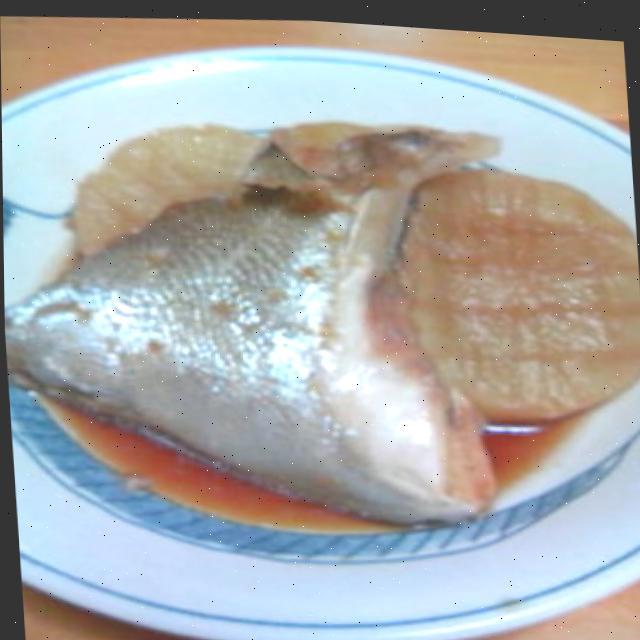熟制海鲜: (0, 30, 557, 603)
